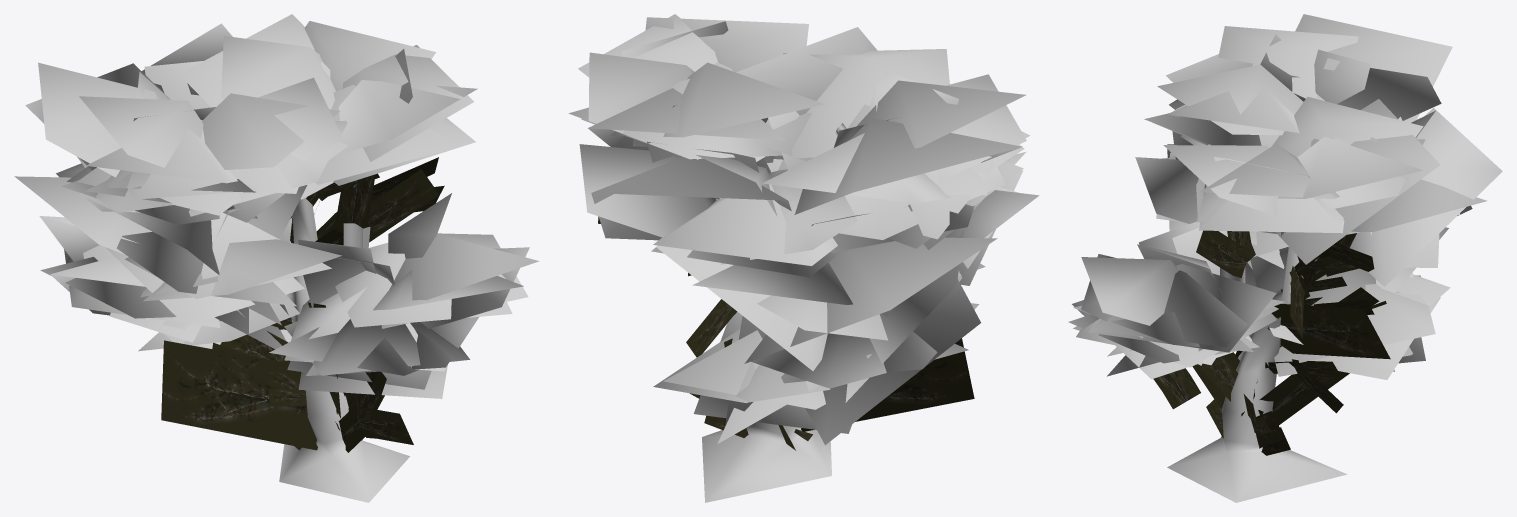
The model's file is Tree7Lod1.FBX.
The picture shows the model from 3 angles, left to right: view 1: azimuth 30°, elevation 25°; view 2: azimuth 150°, elevation 25°; view 3: azimuth 270°, elevation 25°; orthographic projection. The views are drawn at different scales.
Parts seen in each view (by area): view 1: Tree7Lod1; view 2: Tree7Lod1; view 3: Tree7Lod1.
Boxes of the visible parts, box(x1,y1,x2,y2) form: Tree7Lod1: box(14, 14, 539, 502); Tree7Lod1: box(568, 14, 1039, 502); Tree7Lod1: box(1068, 14, 1502, 502).
Bounding box in the file's own units: 354 × 323 × 350.
